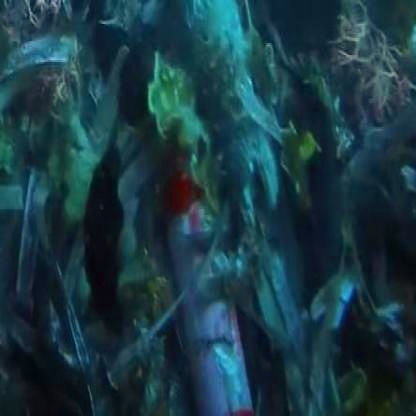pbottle: (158, 141, 264, 416)
